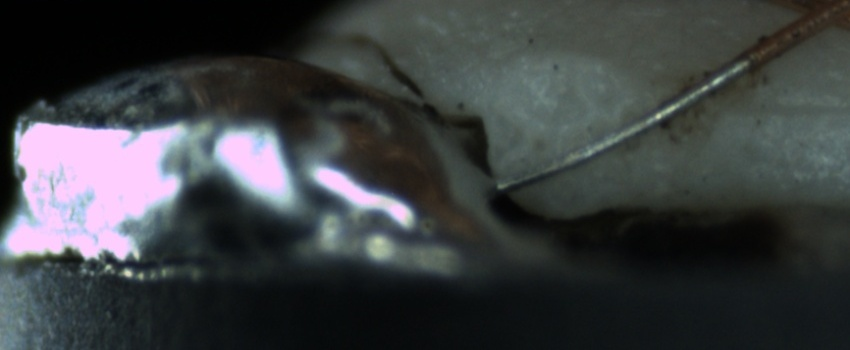CL: (775, 0, 847, 42)
DL: (699, 76, 850, 140)
TS: (496, 51, 756, 193)
